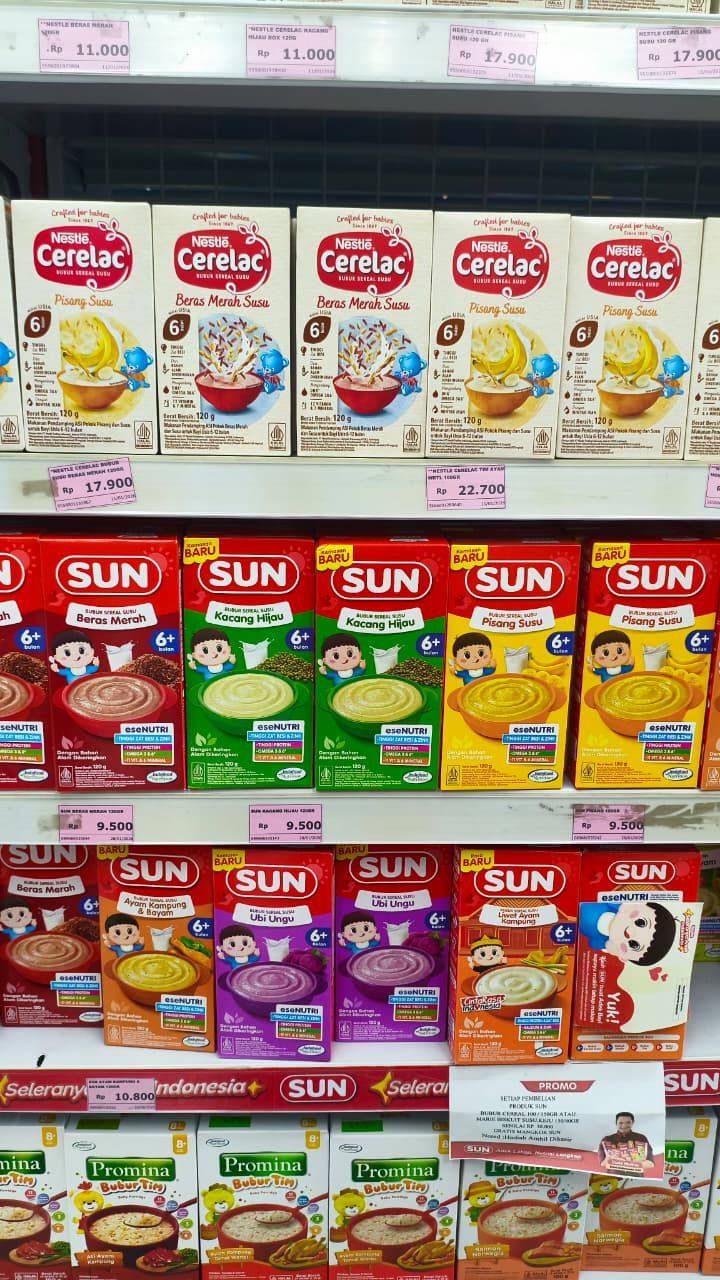Cerelac: (163, 237, 289, 384), (436, 229, 562, 376), (574, 221, 700, 368)
Sun: (450, 534, 576, 681), (48, 542, 174, 689), (180, 536, 306, 683), (319, 541, 445, 688), (450, 829, 576, 976), (92, 828, 218, 975)
